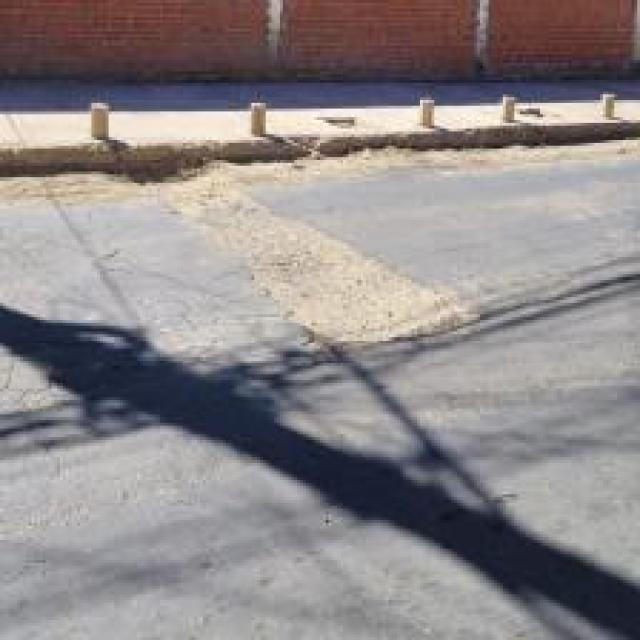BACHE: (205, 200, 471, 342)
